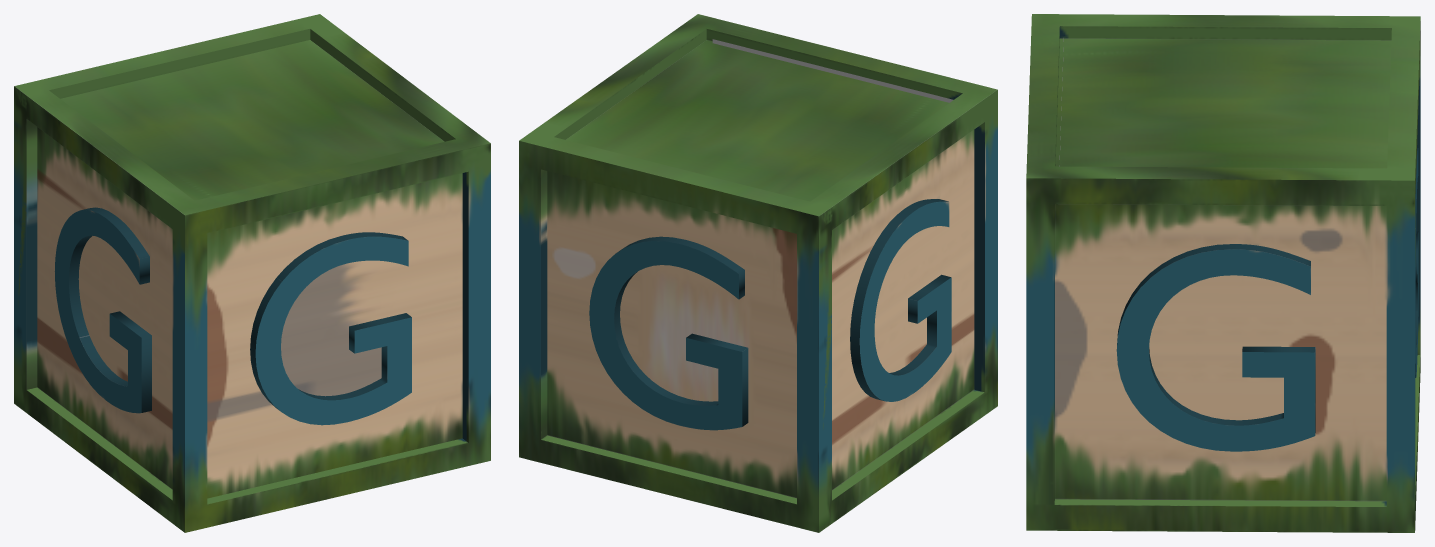
The picture shows the model from 3 angles, left to right: view 1: azimuth 30°, elevation 25°; view 2: azimuth 150°, elevation 25°; view 3: azimuth 270°, elevation 25°; orthographic projection. The views are drawn at different scales.
Visible parts, largest first — view 1: Cube.022; view 2: Cube.022; view 3: Cube.022.
Boxes of the visible parts, x1,y1,x2,y2 form: Cube.022: (14, 14, 490, 532); Cube.022: (519, 14, 997, 532); Cube.022: (1026, 14, 1420, 532).
Size of the model in its own units: 74.61 by 73.57 by 74.61.
1 material, 1 textured.
